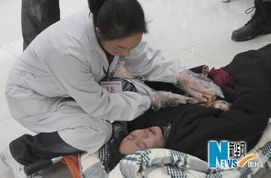falling: (113, 5, 269, 173)
